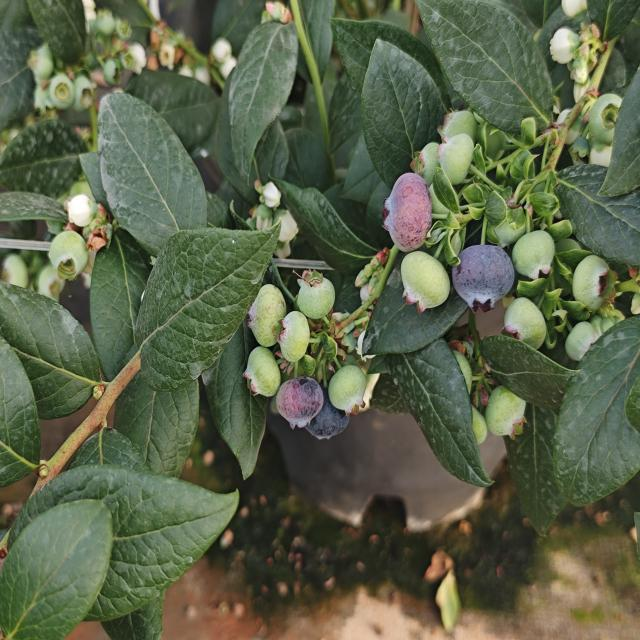ripe: (448, 230, 514, 316), (380, 166, 436, 263), (278, 374, 348, 438)
